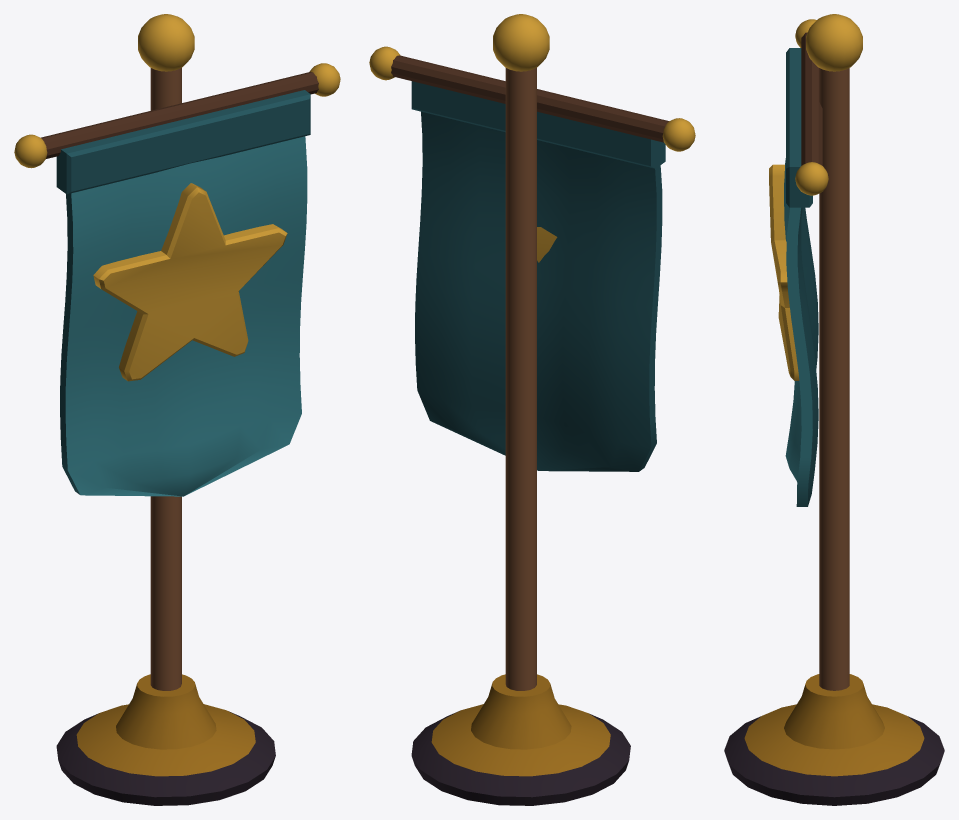
File: Banner_09.glb
3 renders of one model, left to right at view 1: azimuth 30°, elevation 25°; view 2: azimuth 150°, elevation 25°; view 3: azimuth 270°, elevation 25°, orthographic.
Visible parts, largest first — view 1: Banner_09; view 2: Banner_09; view 3: Banner_09.
Boxes of the visible parts, x1,y1,x2,y2 form: Banner_09: [14, 14, 340, 805]; Banner_09: [369, 14, 695, 805]; Banner_09: [724, 14, 944, 805].
Size of the model in its own units: 3.3 by 7.29 by 1.96.
